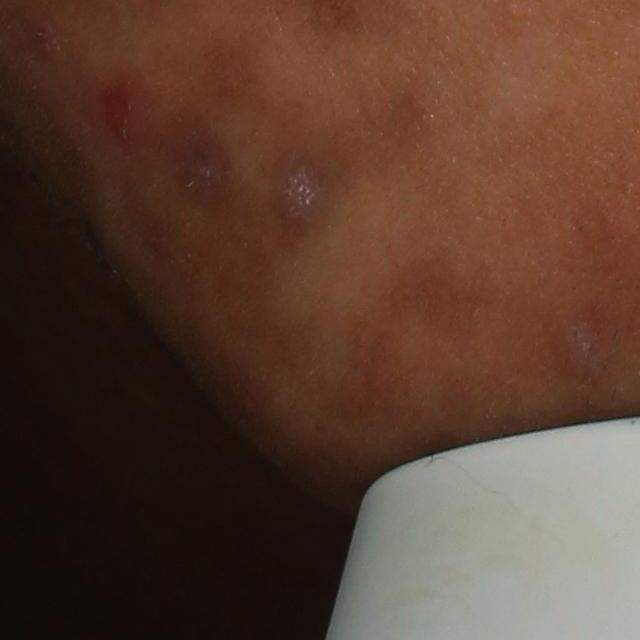papule: (93, 81, 143, 152)
